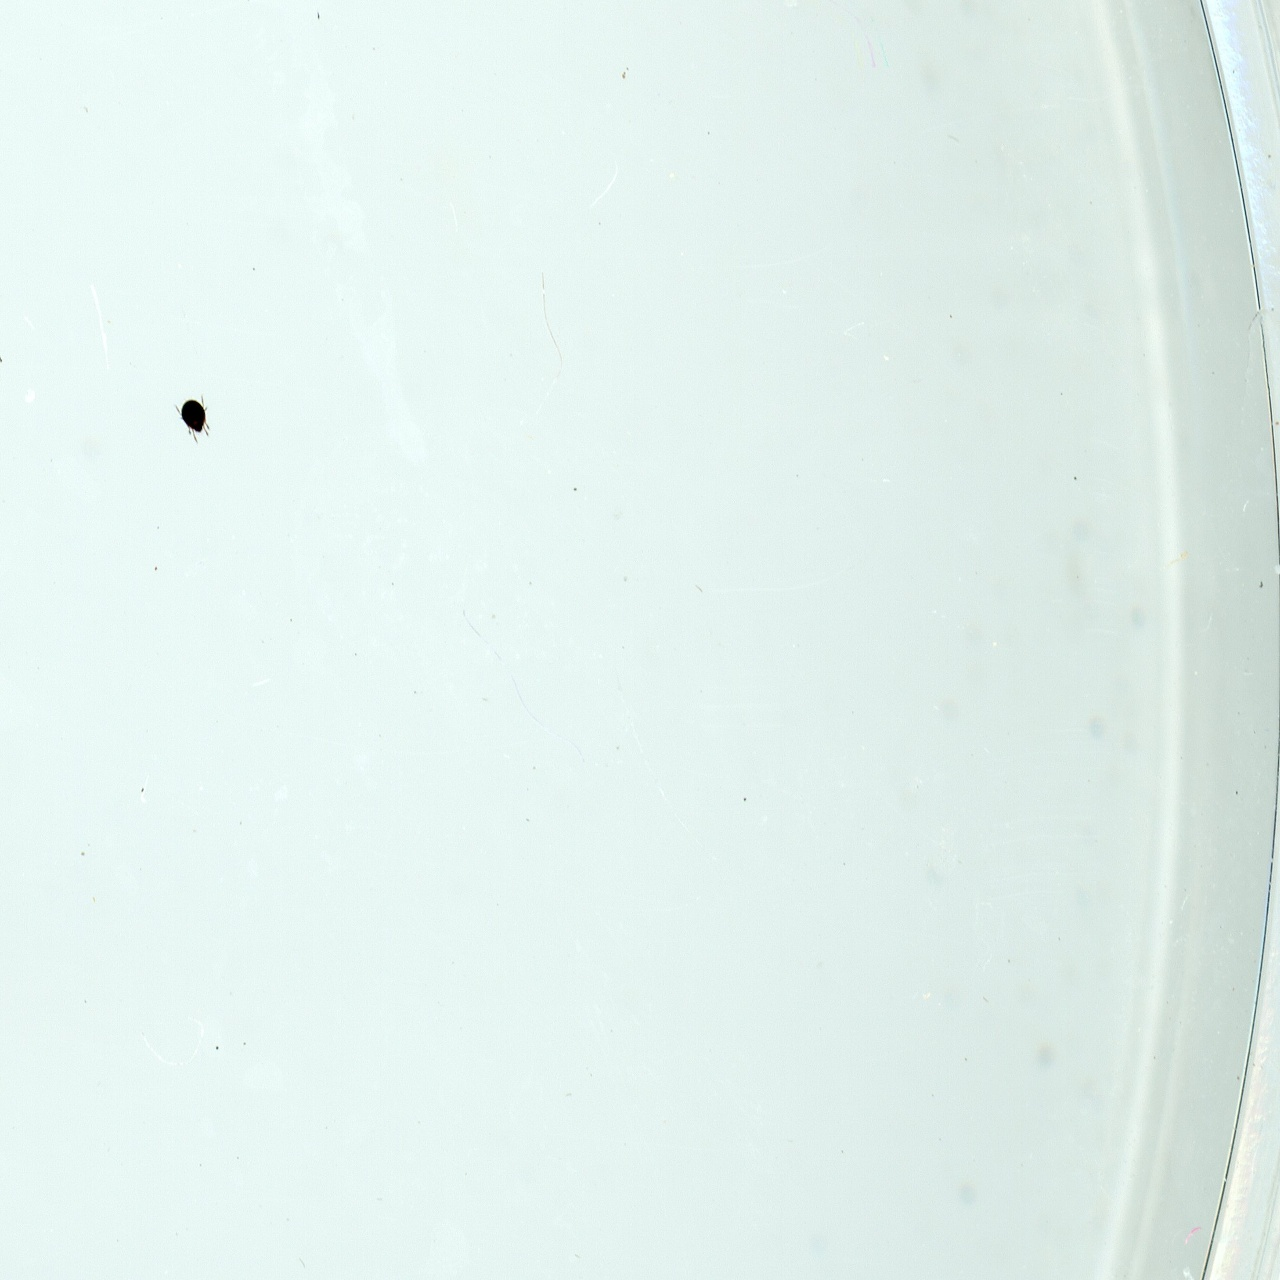arthropod: (172, 396, 213, 443)
